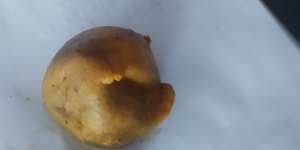BAD: (41, 25, 178, 150)
